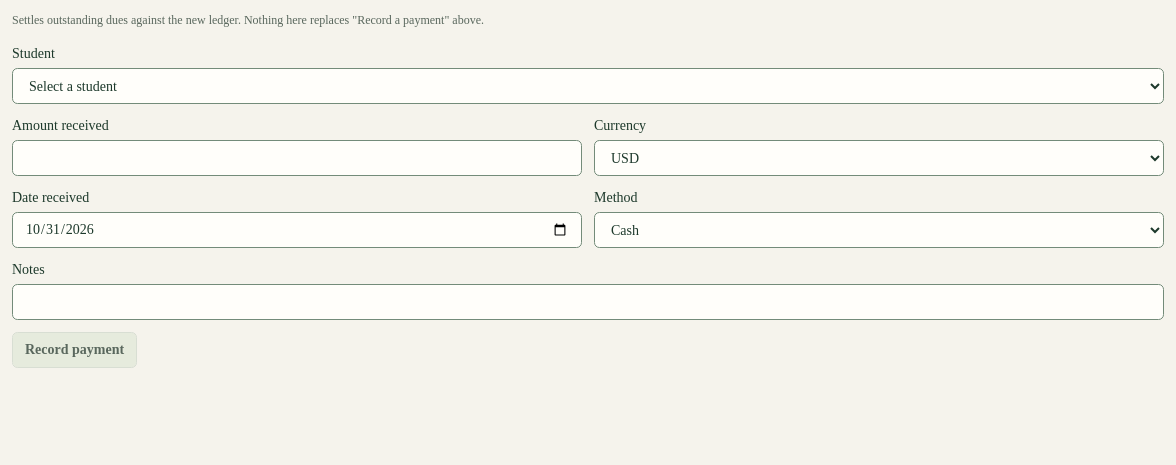
Test: point 3: the obligations fetch race, mixed-currency, and loading-phase locking › a transient obligations-fetch failure offers a retry that genuinely re-fetches
Select "Ana Soto — Alliance" in the dropdown labelled "Student" at [588, 86], box [12,68,1164,104]
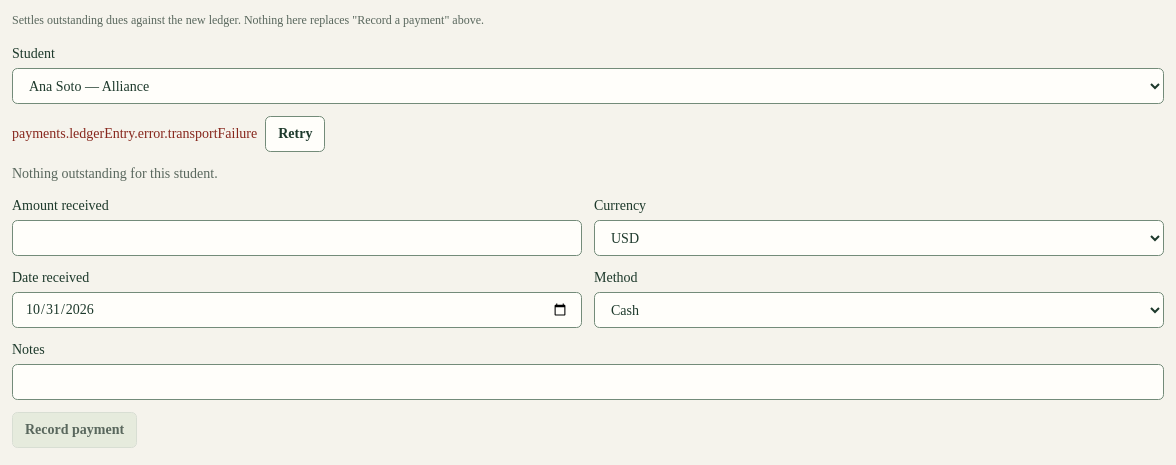
Check: the button "Retry" is shown
Click the button "Retry".
click(295, 134)  # box [265,116,325,152]
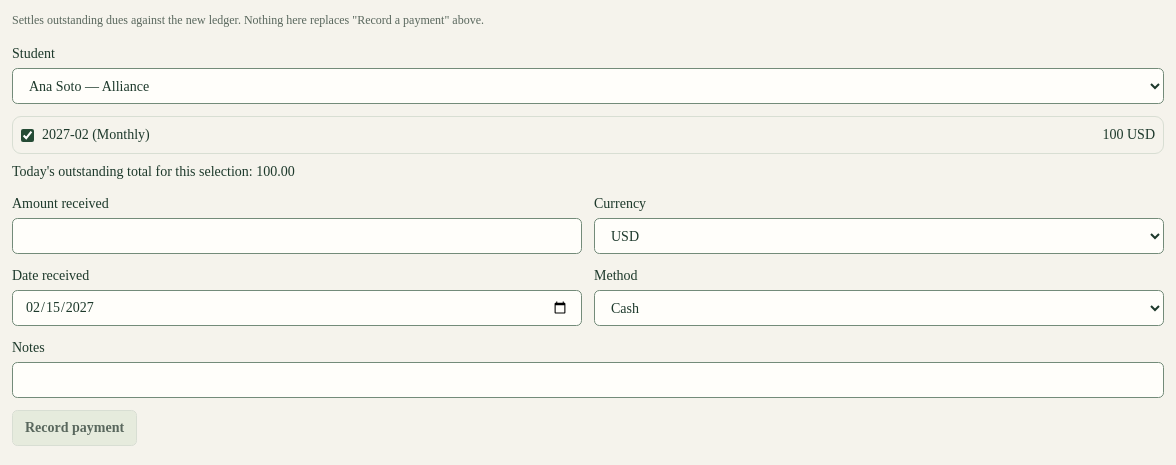
Check: the text "2027-02 (Monthly)" is shown, box [42,125,150,145]
